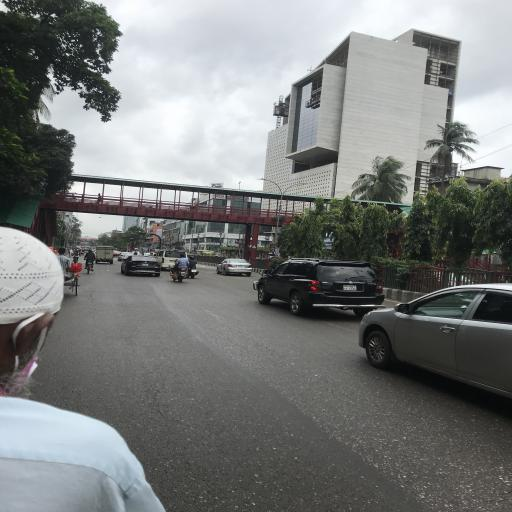bicycle: (84, 251, 97, 276), (73, 251, 80, 265)
bus: (141, 248, 150, 254), (151, 250, 161, 255)
car: (360, 275, 512, 393), (122, 256, 163, 278), (216, 259, 254, 277), (118, 253, 130, 263), (114, 251, 121, 258)
motorbike: (169, 268, 188, 284), (187, 267, 201, 281)
pickup: (96, 245, 115, 266)
rickshaw: (78, 250, 86, 259)
suv: (253, 257, 388, 318)
van: (161, 251, 189, 269)
